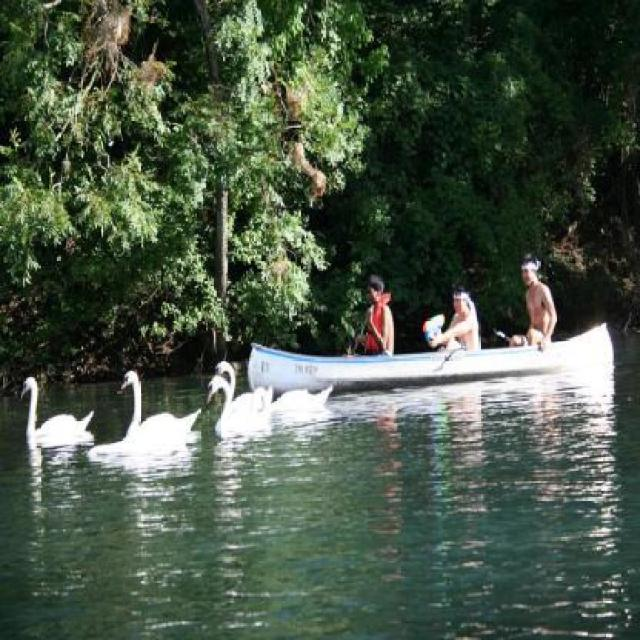Person: (420, 292, 482, 359), (349, 270, 396, 358), (521, 251, 559, 354)
